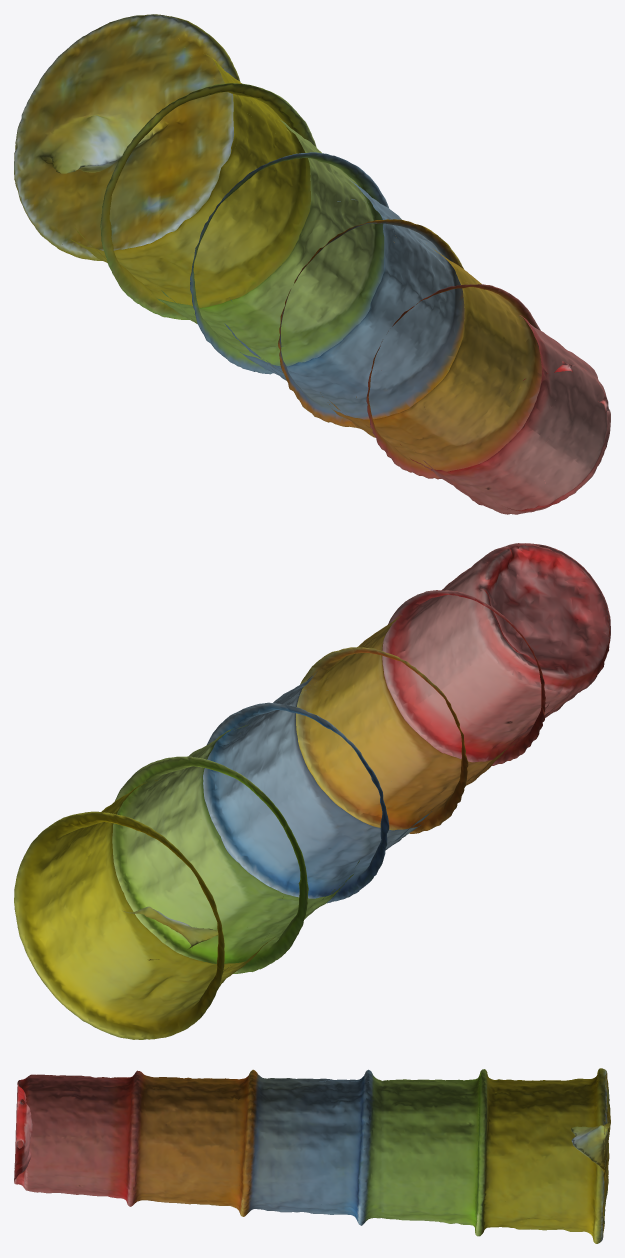
File: stucking_cups.glb
The picture shows the model from 3 angles, top to bottom: view 1: azimuth 30°, elevation 25°; view 2: azimuth 150°, elevation 25°; view 3: azimuth 270°, elevation 25°; orthographic projection. The views are drawn at different scales.
Bounding box in the file's own units: 0.2963 × 0.2967 × 1.
